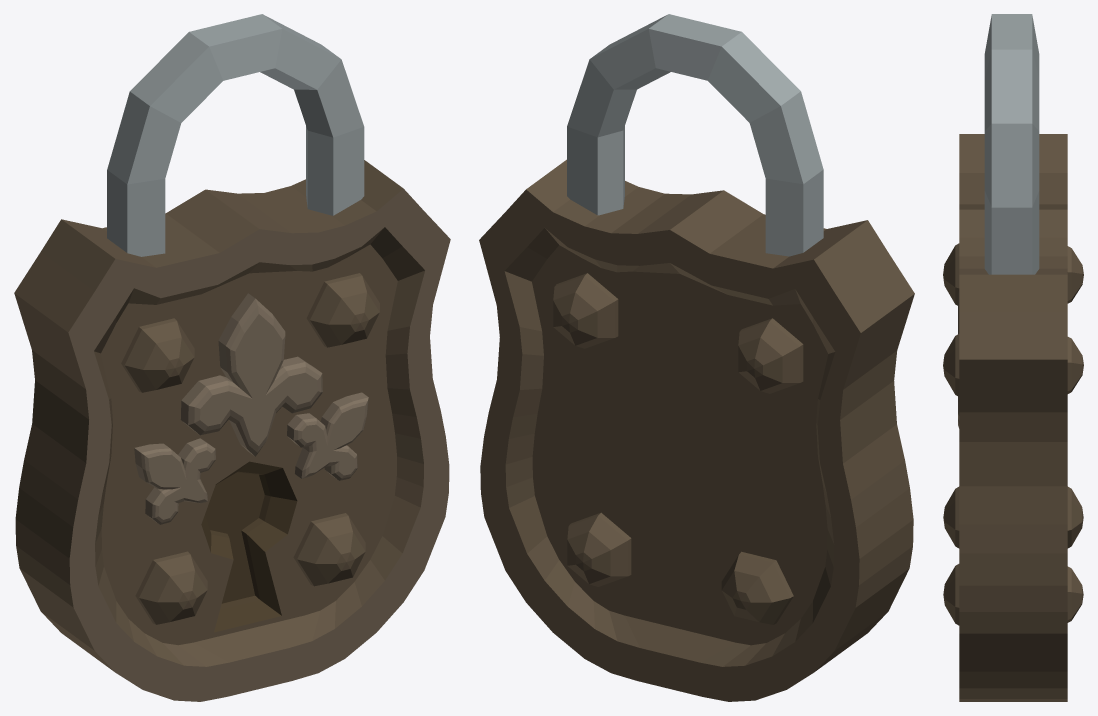
Rendered from WF_LP_HT_Props_Key.001.fbx.
The picture shows the model from 3 angles, left to right: view 1: azimuth 30°, elevation 25°; view 2: azimuth 150°, elevation 25°; view 3: azimuth 270°, elevation 25°; orthographic projection.
Visible parts, largest first — view 1: WF_LP_HT_Props_Key.001; view 2: WF_LP_HT_Props_Key.001; view 3: WF_LP_HT_Props_Key.001.
Part boxes in pixels (x1,y1,x2,y2): WF_LP_HT_Props_Key.001: (14, 14, 450, 701); WF_LP_HT_Props_Key.001: (479, 14, 914, 701); WF_LP_HT_Props_Key.001: (943, 14, 1083, 701).
Bounding box in the file's own units: 0.1328 × 0.212 × 0.0424.
